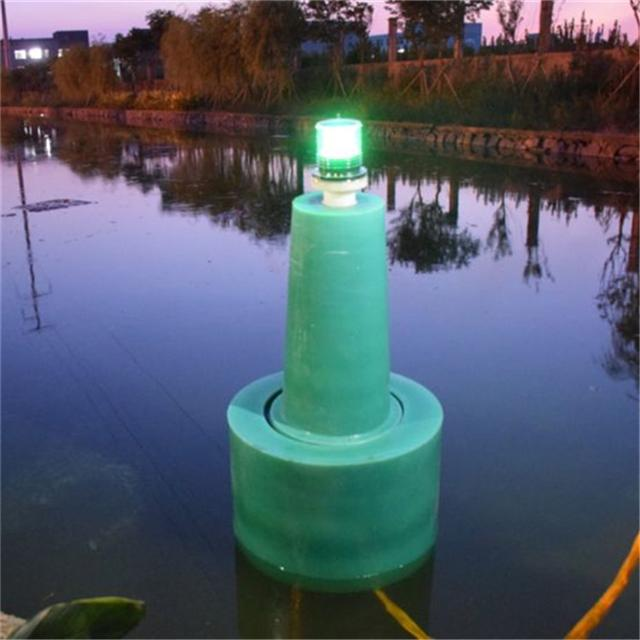buoy: (211, 109, 449, 579)
